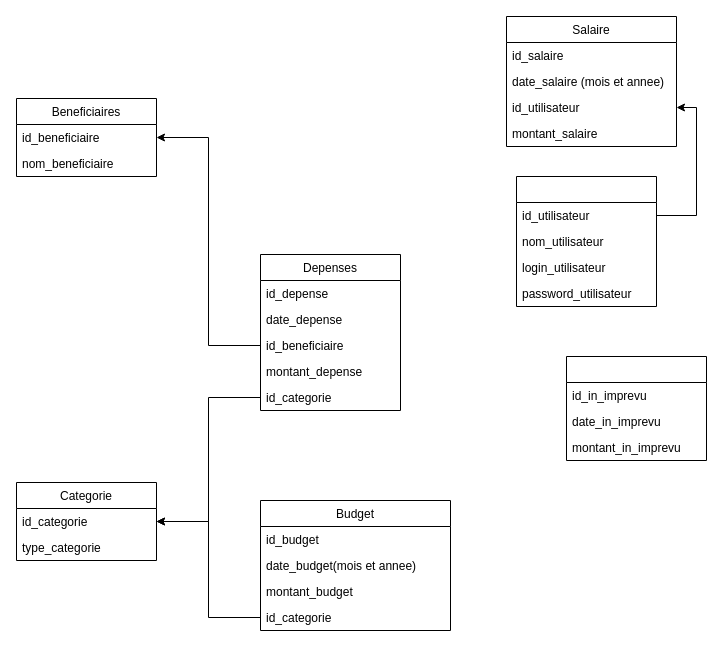
The diagram is 723 pixels wide and 647 high, and some of its shapes have lost their labels. Each missing label, with the box of its shape:
Entree_imprevue: (566, 356, 706, 460)
User: (516, 176, 656, 306)
